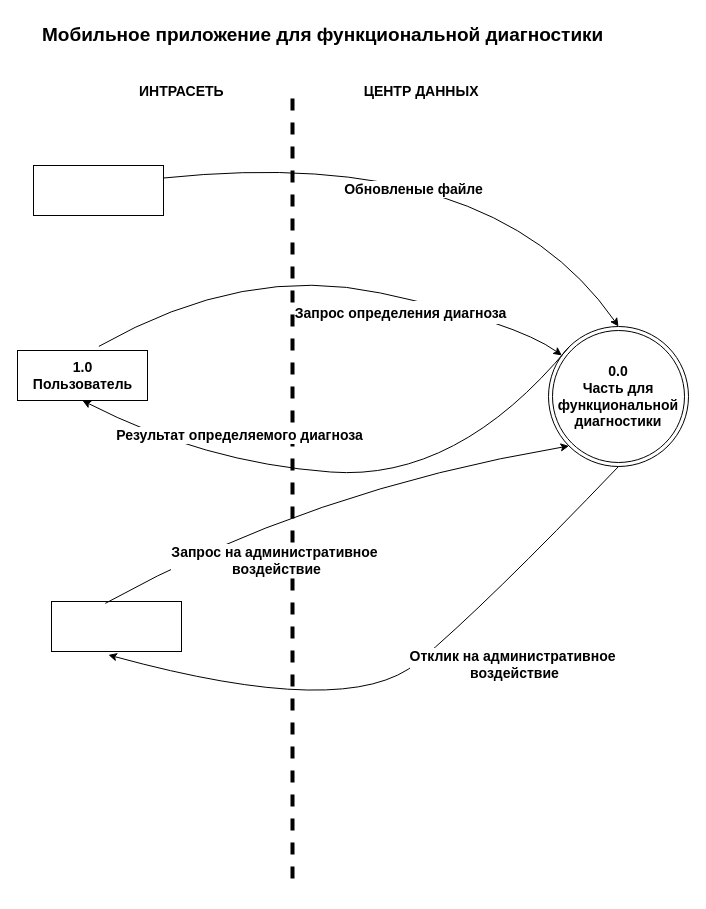
Some shapes in this 706 by 909 pixel diagram are drawn without their labels. Here are the shapes that lost their labels. From the top down, the centre of each, then its label:
the point at 98,190: 2.0 Мобильный разработчик
the point at 116,626: 3.0 Администратор
